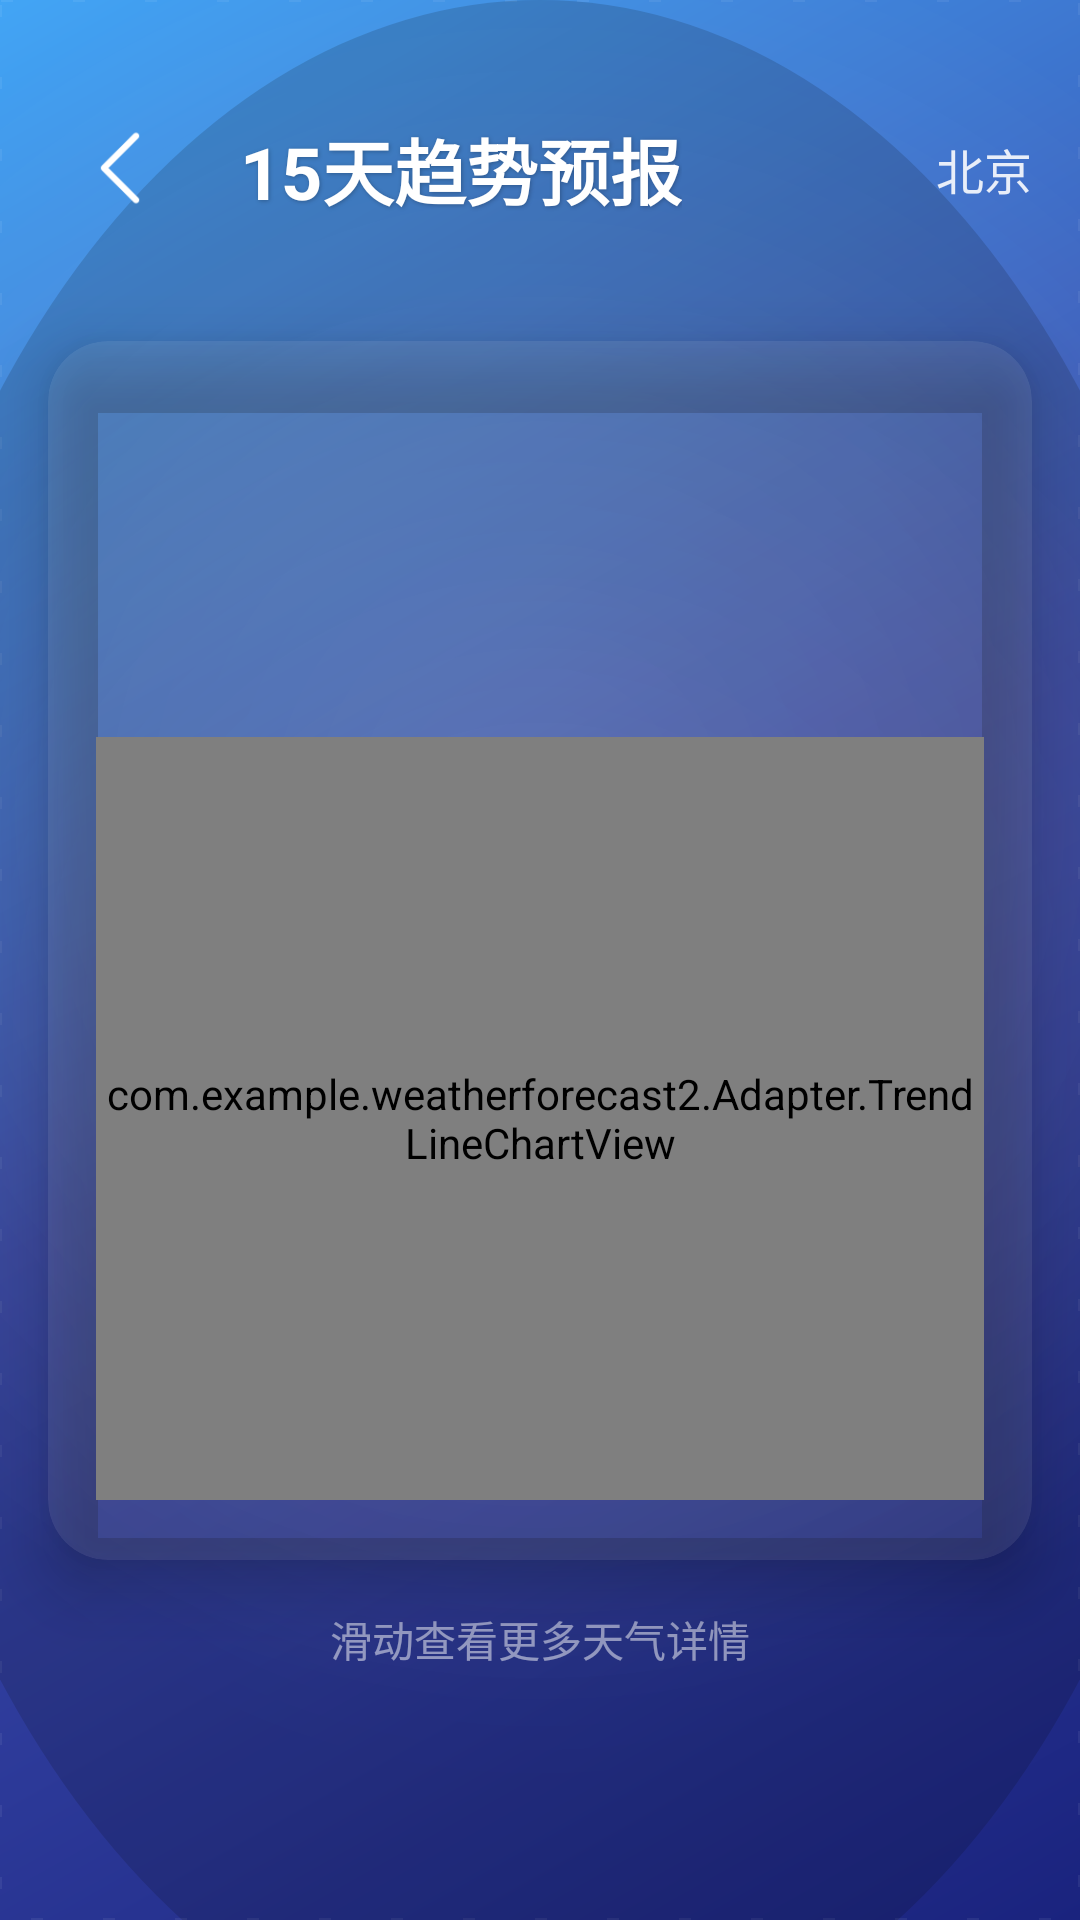

Where to tap for icons on this 1080x1920 app screen, as (x,y):
返回: (145,186)
